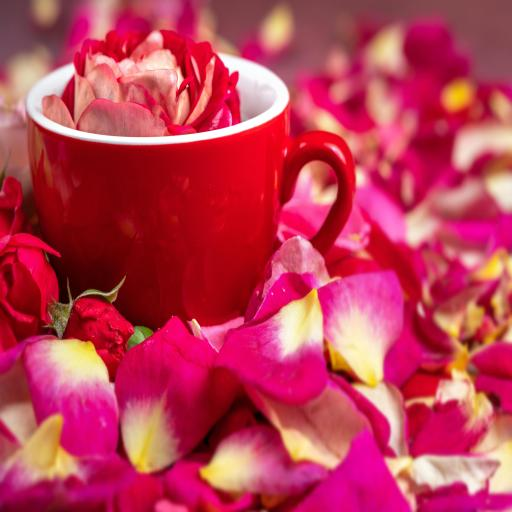cup: (26, 45, 356, 332)
